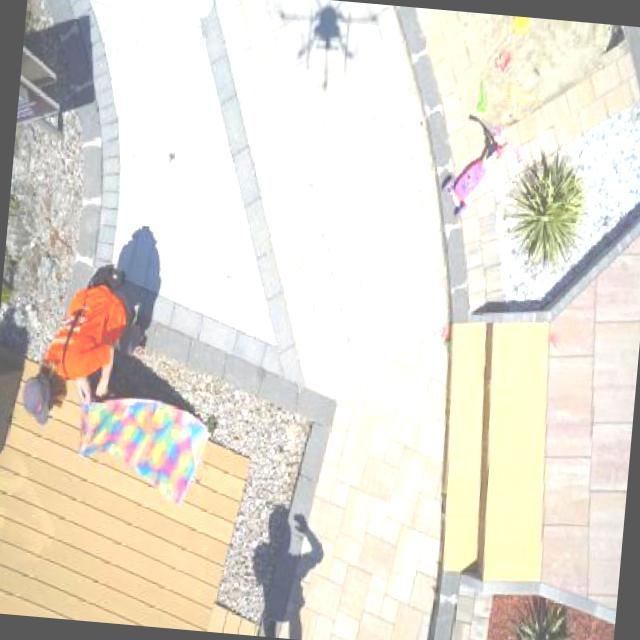Person: (12, 270, 126, 428)
